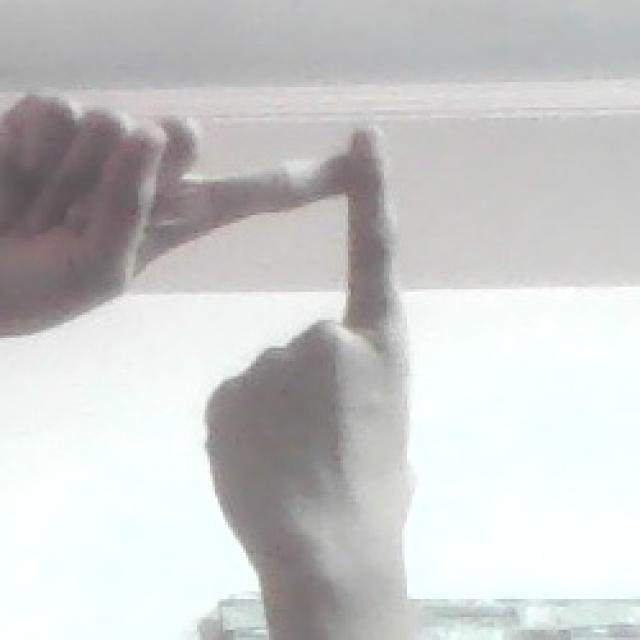Alphabet-E: (13, 78, 424, 579)
